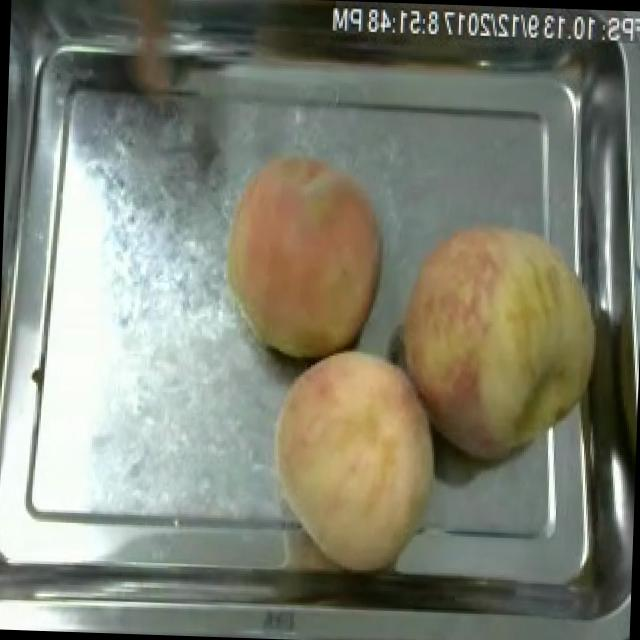Fruit: (381, 208, 622, 474), (258, 336, 452, 578), (215, 143, 392, 367)
